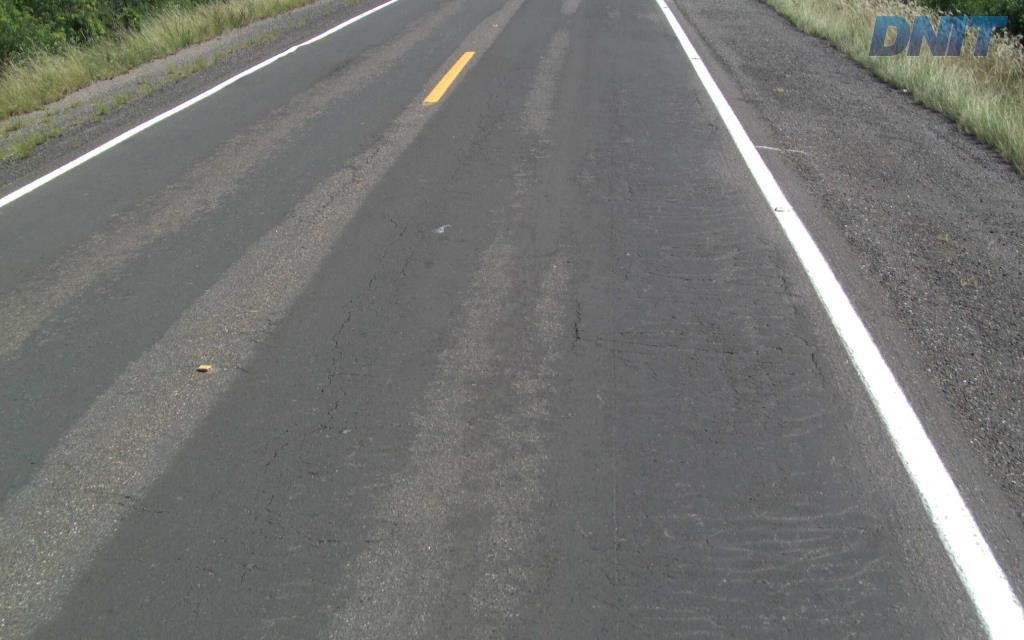crack: (687, 321, 737, 360)
